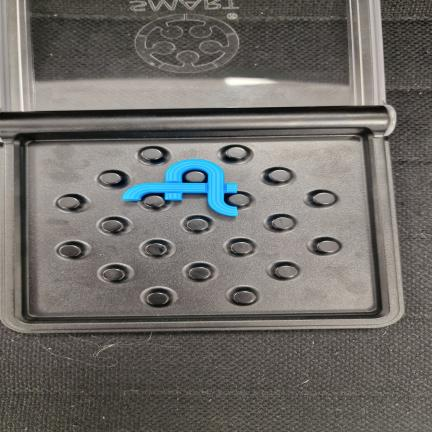B_SkyBlue: (123, 159, 237, 216)
board: (0, 107, 403, 333)
hinge: (0, 108, 403, 137)
pin: (146, 292, 170, 306), (233, 290, 256, 304), (100, 172, 122, 186), (189, 266, 211, 280), (268, 169, 291, 182), (186, 218, 209, 231), (101, 219, 124, 232), (59, 244, 82, 257), (316, 240, 339, 253), (275, 265, 298, 278), (141, 148, 163, 161), (225, 147, 247, 160), (228, 194, 250, 207), (313, 192, 335, 205), (145, 243, 167, 256), (230, 241, 252, 254), (103, 268, 125, 281), (144, 195, 165, 208), (58, 197, 80, 209), (271, 217, 293, 229), (185, 171, 205, 182)
